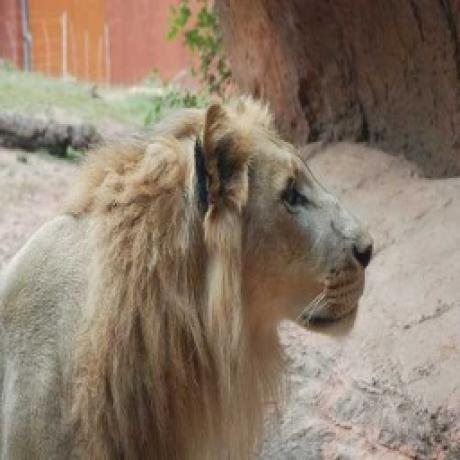Lion: (0, 87, 377, 459)
